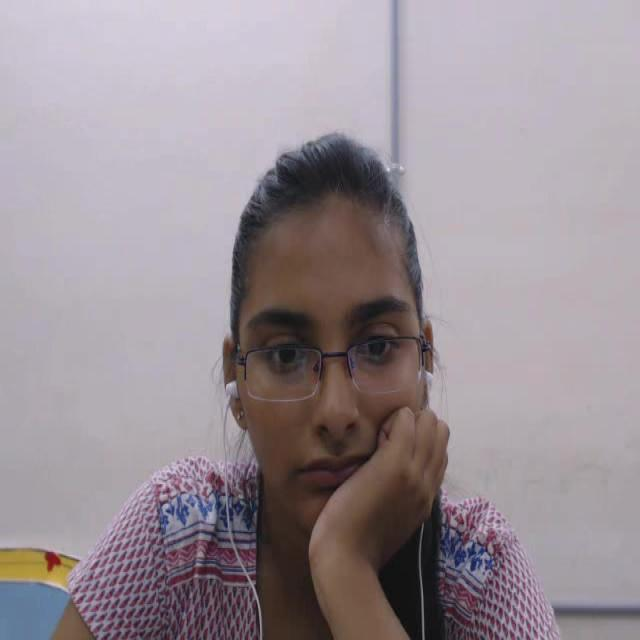Bored: (201, 131, 461, 582)
